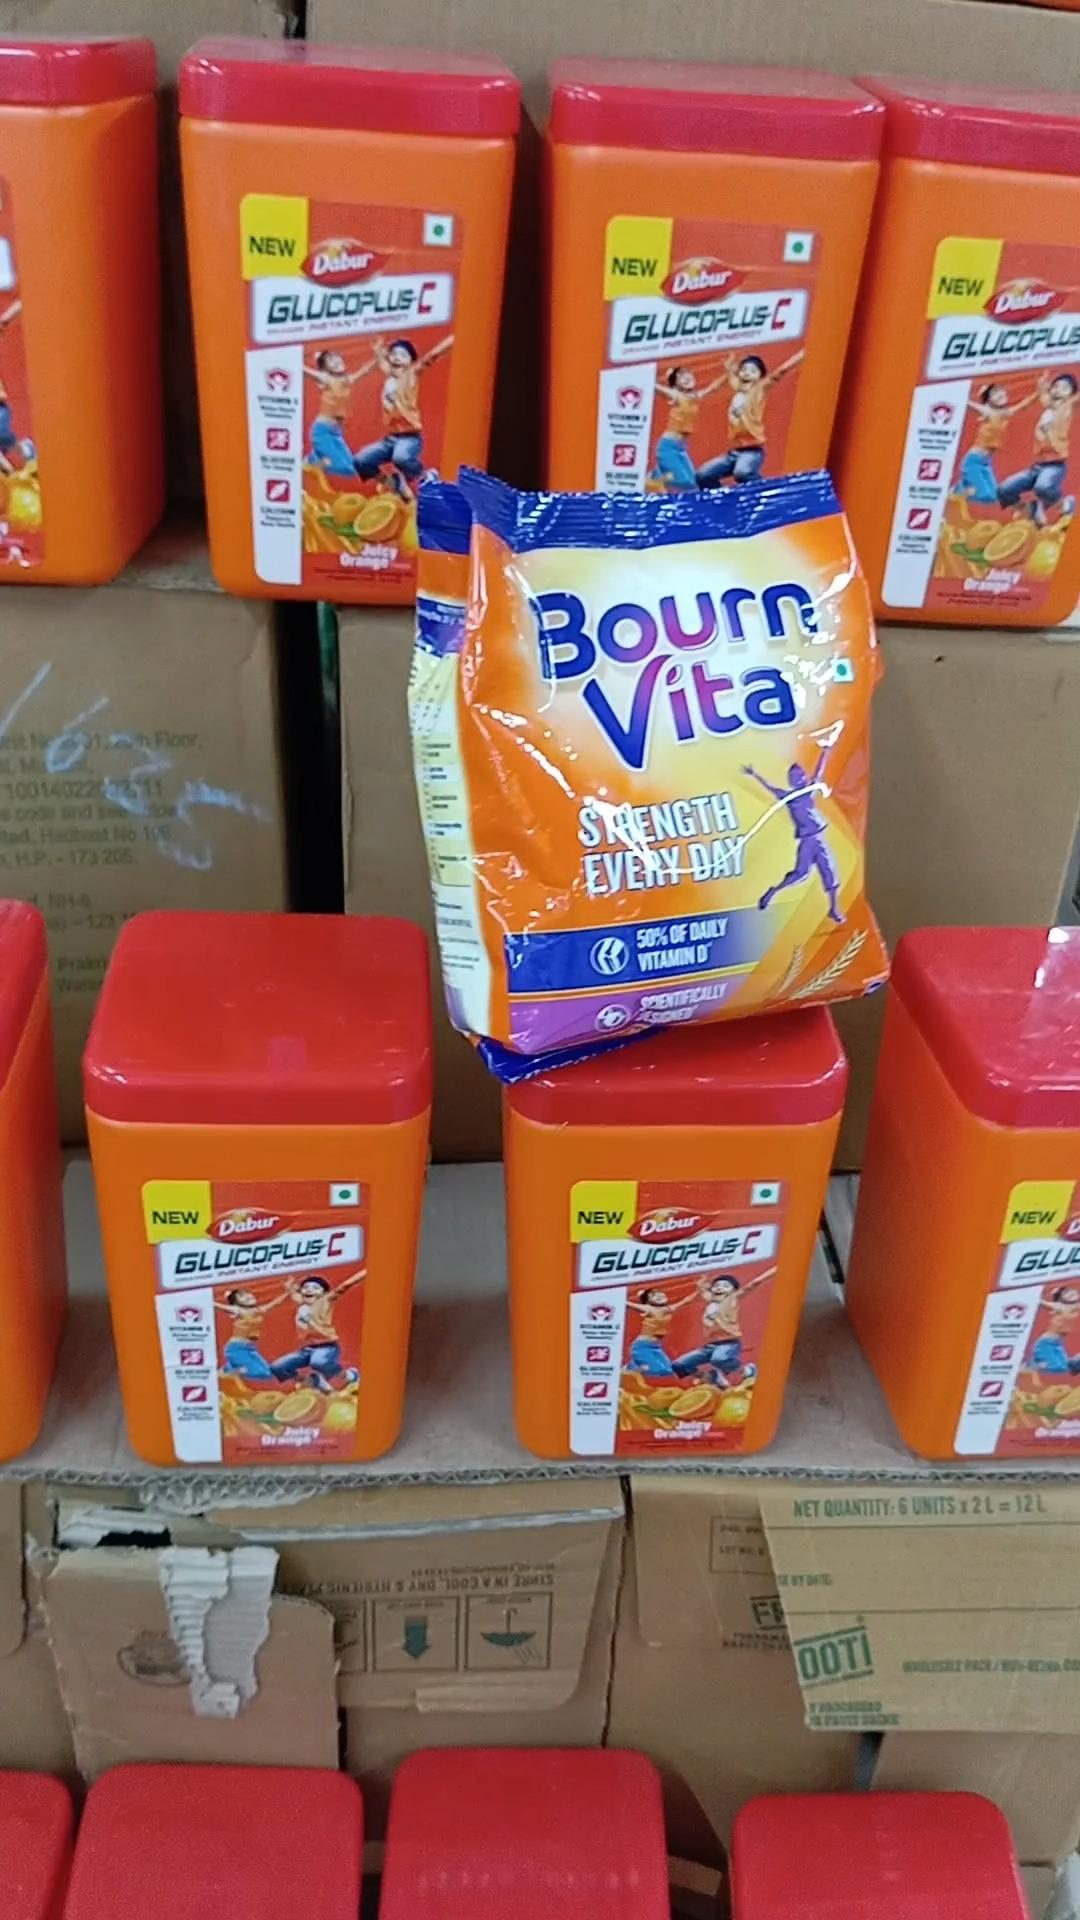BOURN_VITA_500_G_POUCH: (444, 469, 899, 1031)
